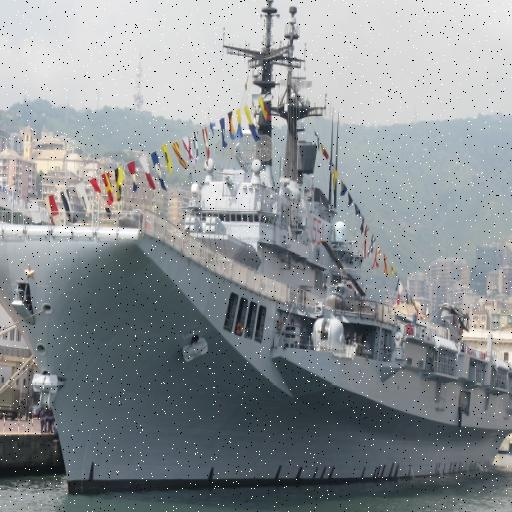Portanaves: (1, 1, 512, 500)
